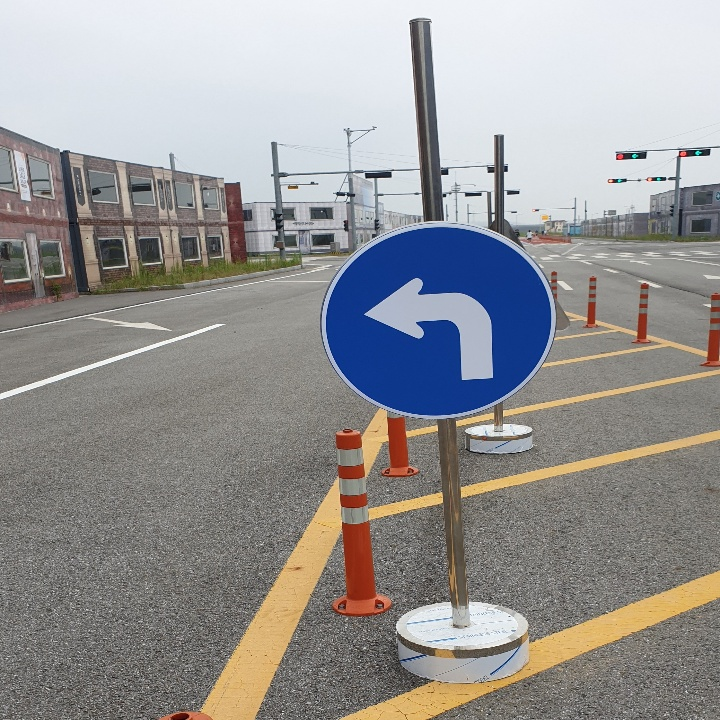left: (359, 264, 507, 390)
